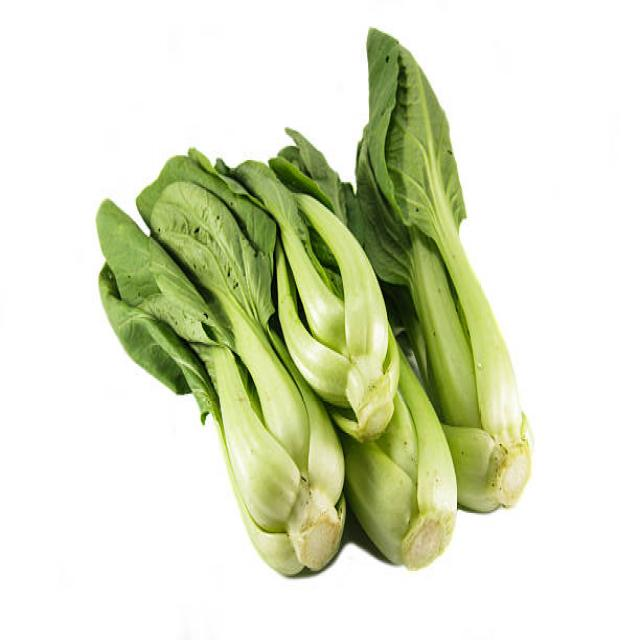Bok Choy: (186, 278, 298, 580), (466, 143, 558, 501), (294, 174, 380, 383)
